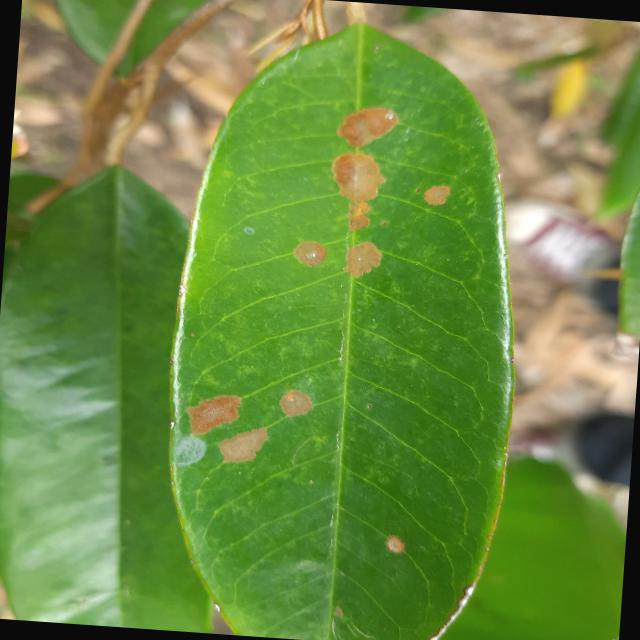Algal Leaf Spot: (149, 3, 545, 639)
